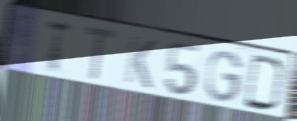5: (163, 41, 202, 98)
D: (242, 52, 288, 114)
G: (204, 49, 245, 104)
K: (123, 33, 159, 92)
T: (83, 23, 119, 84), (43, 17, 76, 76)
